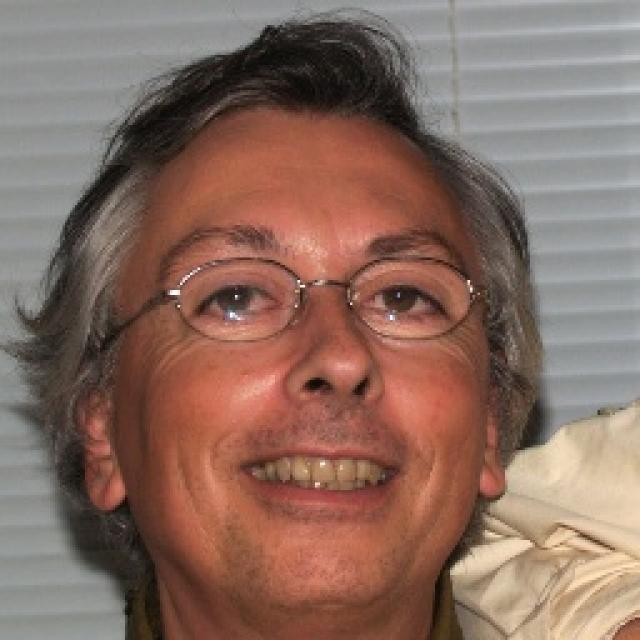earlobe: (83, 468, 129, 516), (475, 458, 509, 502)
eye: (354, 281, 450, 322), (196, 282, 278, 324)
nose: (283, 388, 382, 441)
wholeear: (475, 316, 518, 503), (69, 381, 127, 516)
